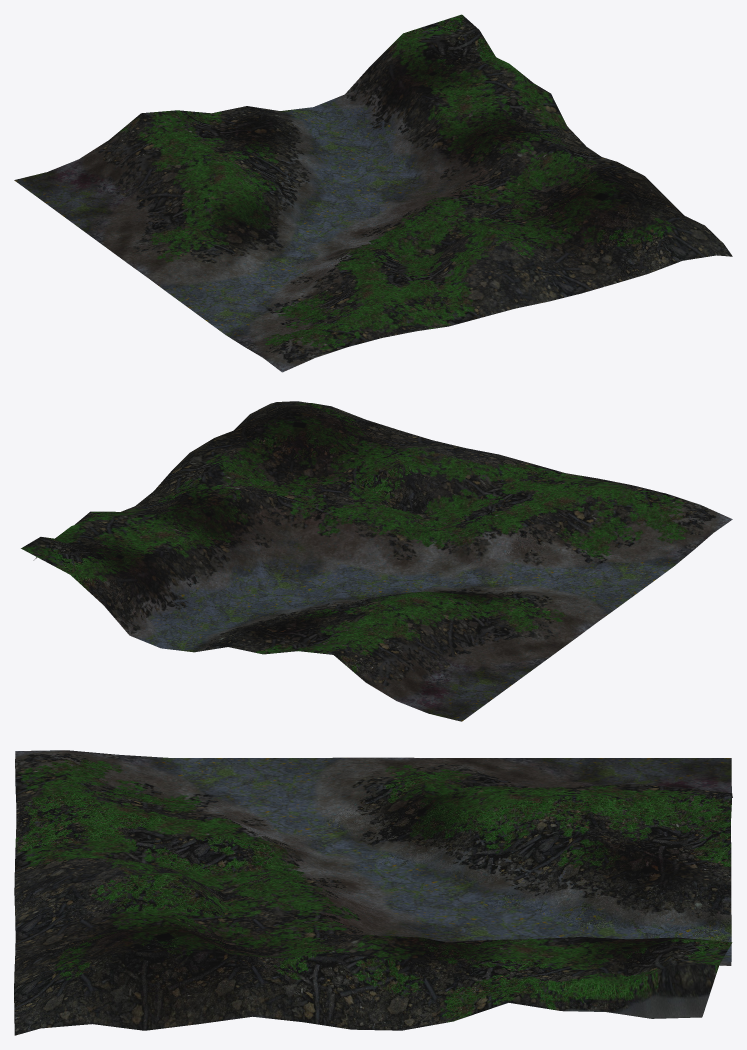
File: terrain4.glb
The picture shows the model from 3 angles, top to bottom: view 1: azimuth 30°, elevation 25°; view 2: azimuth 150°, elevation 25°; view 3: azimuth 270°, elevation 25°; orthographic projection. The views are drawn at different scales.
Parts seen in each view (by area): view 1: Terrain.004; view 2: Terrain.004; view 3: Terrain.004.
Part boxes in pixels (x1=…): Terrain.004: x1=14, y1=14, x2=732, y2=372; Terrain.004: x1=21, y1=401, x2=732, y2=721; Terrain.004: x1=14, y1=750, x2=732, y2=1035.
Size of the model in its own units: 43.33 by 5.5 by 44.23.
Materials: 1 (1 with a texture image).
